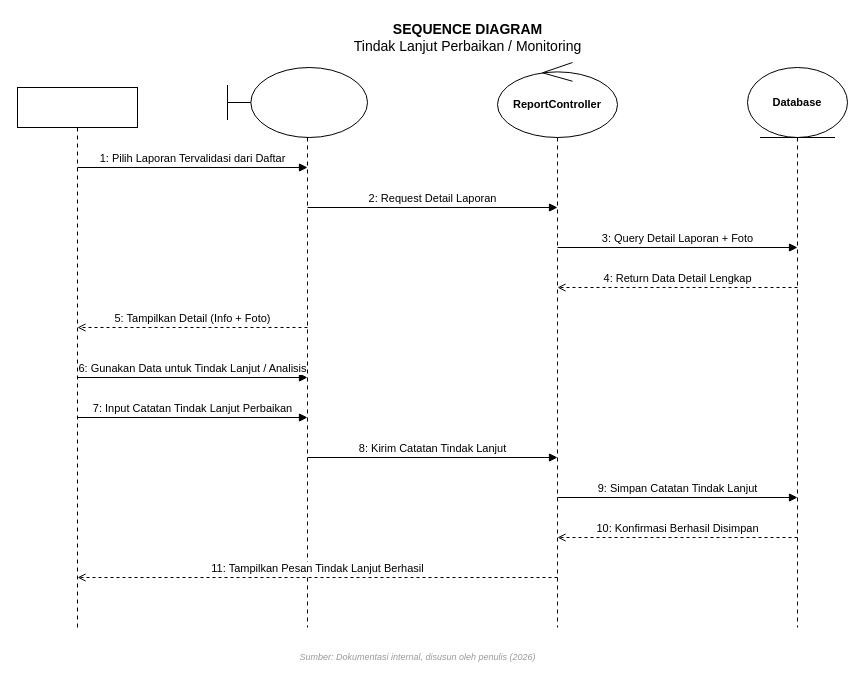
Image size: 865x684. Some labels were removed from this diagram. Here are the shapes that lost their labels. From the top down, the box of each, then its label:
(16, 86, 138, 128): Helpdesk
(226, 66, 368, 138): Halaman Tindak Lanjut
